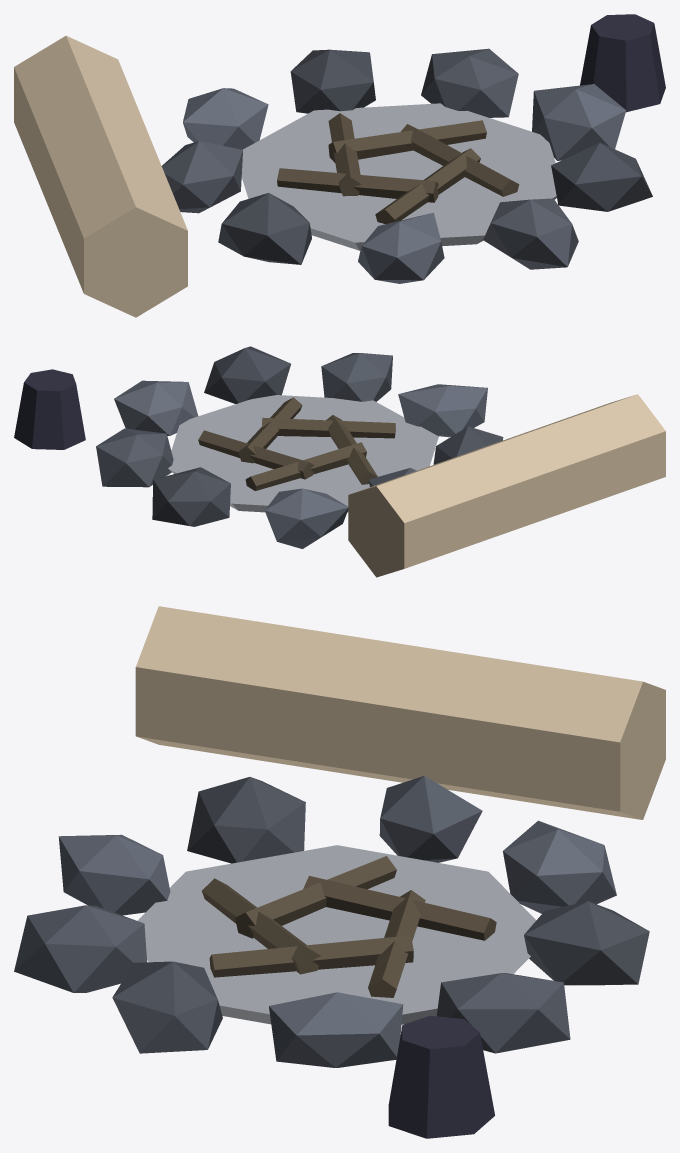
File: drift_fire_out.glb
3 renders of one model, top to bottom at view 1: azimuth 30°, elevation 25°; view 2: azimuth 150°, elevation 25°; view 3: azimuth 270°, elevation 25°, orthographic. The views are drawn at different scales.
Parts seen in each view (by area): view 1: driftwood_l20, silverfog_d15, slate_d20, slate_d30, slate_d5, driftwood_d55, ink_l10; view 2: driftwood_l20, silverfog_d15, slate_d5, slate_d30, driftwood_d55, slate_d20, ink_l10; view 3: driftwood_l20, silverfog_d15, slate_d30, slate_d20, slate_d5, driftwood_d55, ink_l10.
Boxes of the visible parts, <box> form: driftwood_l20: <box>14,35,187,317</box>; silverfog_d15: <box>241,103,556,250</box>; slate_d20: <box>161,48,578,269</box>; slate_d30: <box>218,49,652,264</box>; slate_d5: <box>183,84,626,283</box>; driftwood_d55: <box>277,113,519,224</box>; ink_l10: <box>580,14,665,112</box>; driftwood_l20: <box>348,394,665,577</box>; silverfog_d15: <box>168,395,438,512</box>; slate_d5: <box>114,380,487,548</box>; slate_d30: <box>152,346,503,526</box>; driftwood_d55: <box>198,397,395,490</box>; slate_d20: <box>96,353,416,487</box>; ink_l10: <box>14,369,85,449</box>; driftwood_l20: <box>135,606,665,819</box>; silverfog_d15: <box>138,845,535,1024</box>; slate_d30: <box>112,777,649,1053</box>; slate_d20: <box>14,775,570,1053</box>; slate_d5: <box>58,820,616,1067</box>; driftwood_d55: <box>202,856,496,997</box>; ink_l10: <box>388,1015,494,1138</box>.
Size of the model in its own units: 1.93 by 0.3559 by 1.28.
